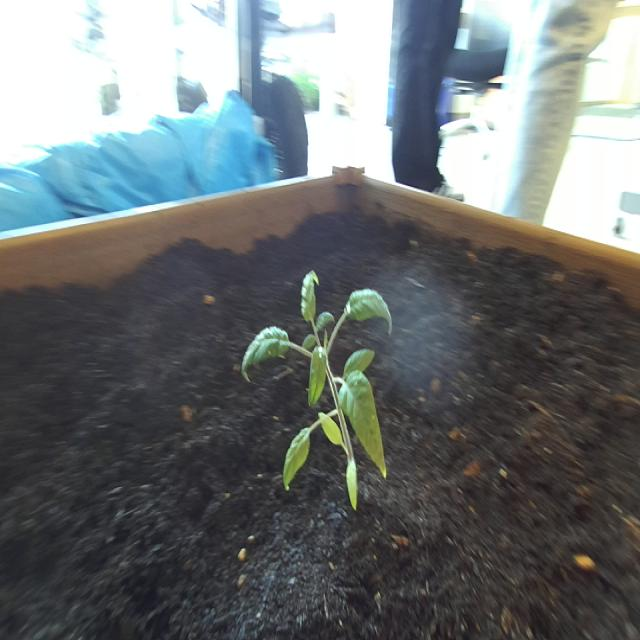Healthy: (238, 263, 396, 516)
